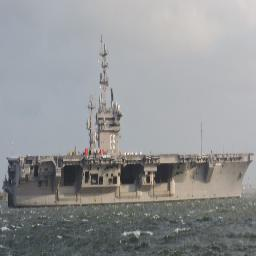Portanaves: (4, 31, 255, 216)
